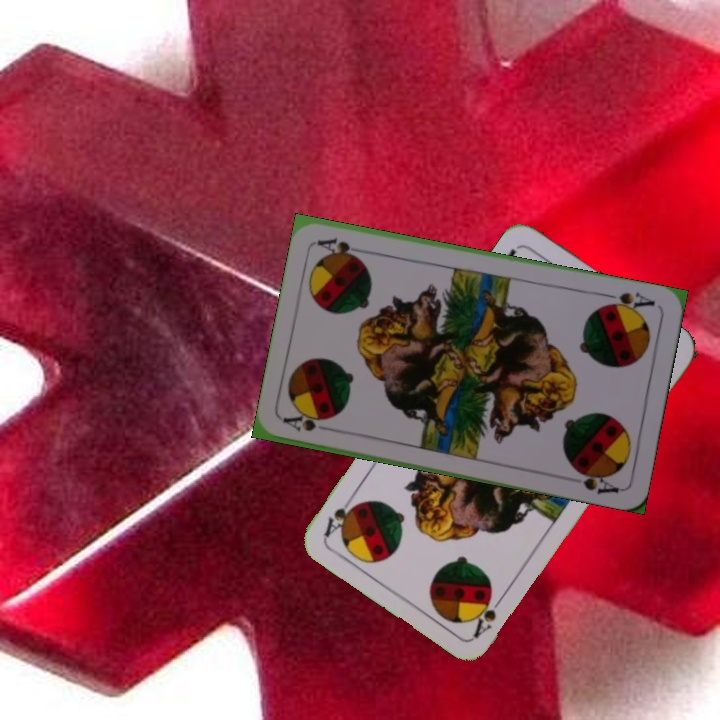SA: (469, 588, 510, 640), (598, 288, 658, 315), (280, 411, 338, 435)
